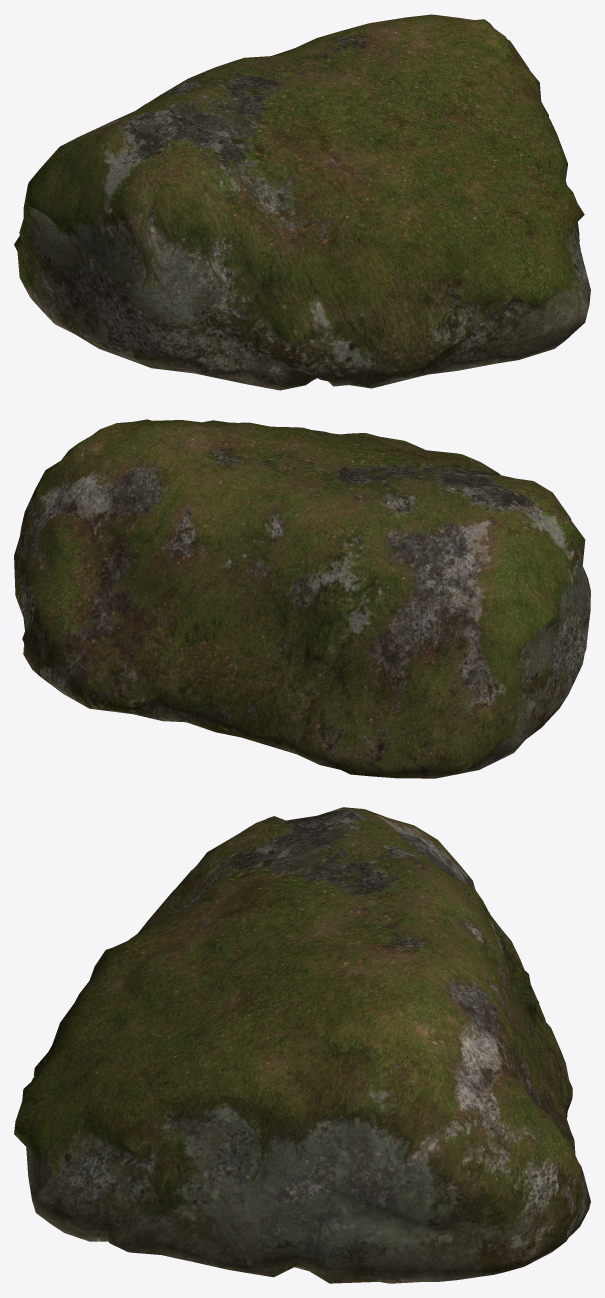
File: nordic_forest_rock_small_xjiifd1_mid.glb
3 renders of one model, top to bottom at view 1: azimuth 30°, elevation 25°; view 2: azimuth 150°, elevation 25°; view 3: azimuth 270°, elevation 25°, orthographic. The views are drawn at different scales.
Visible parts, largest first — view 1: xjiifd1_LOD0_TIER2_000; view 2: xjiifd1_LOD0_TIER2_000; view 3: xjiifd1_LOD0_TIER2_000.
Part boxes in pixels (x1,y1,x2,y2): xjiifd1_LOD0_TIER2_000: (14, 14, 590, 390); xjiifd1_LOD0_TIER2_000: (14, 419, 590, 778); xjiifd1_LOD0_TIER2_000: (14, 807, 590, 1283).
Size of the model in its own units: 0.8203 by 0.3652 by 0.6951.
1 material, 1 textured.
